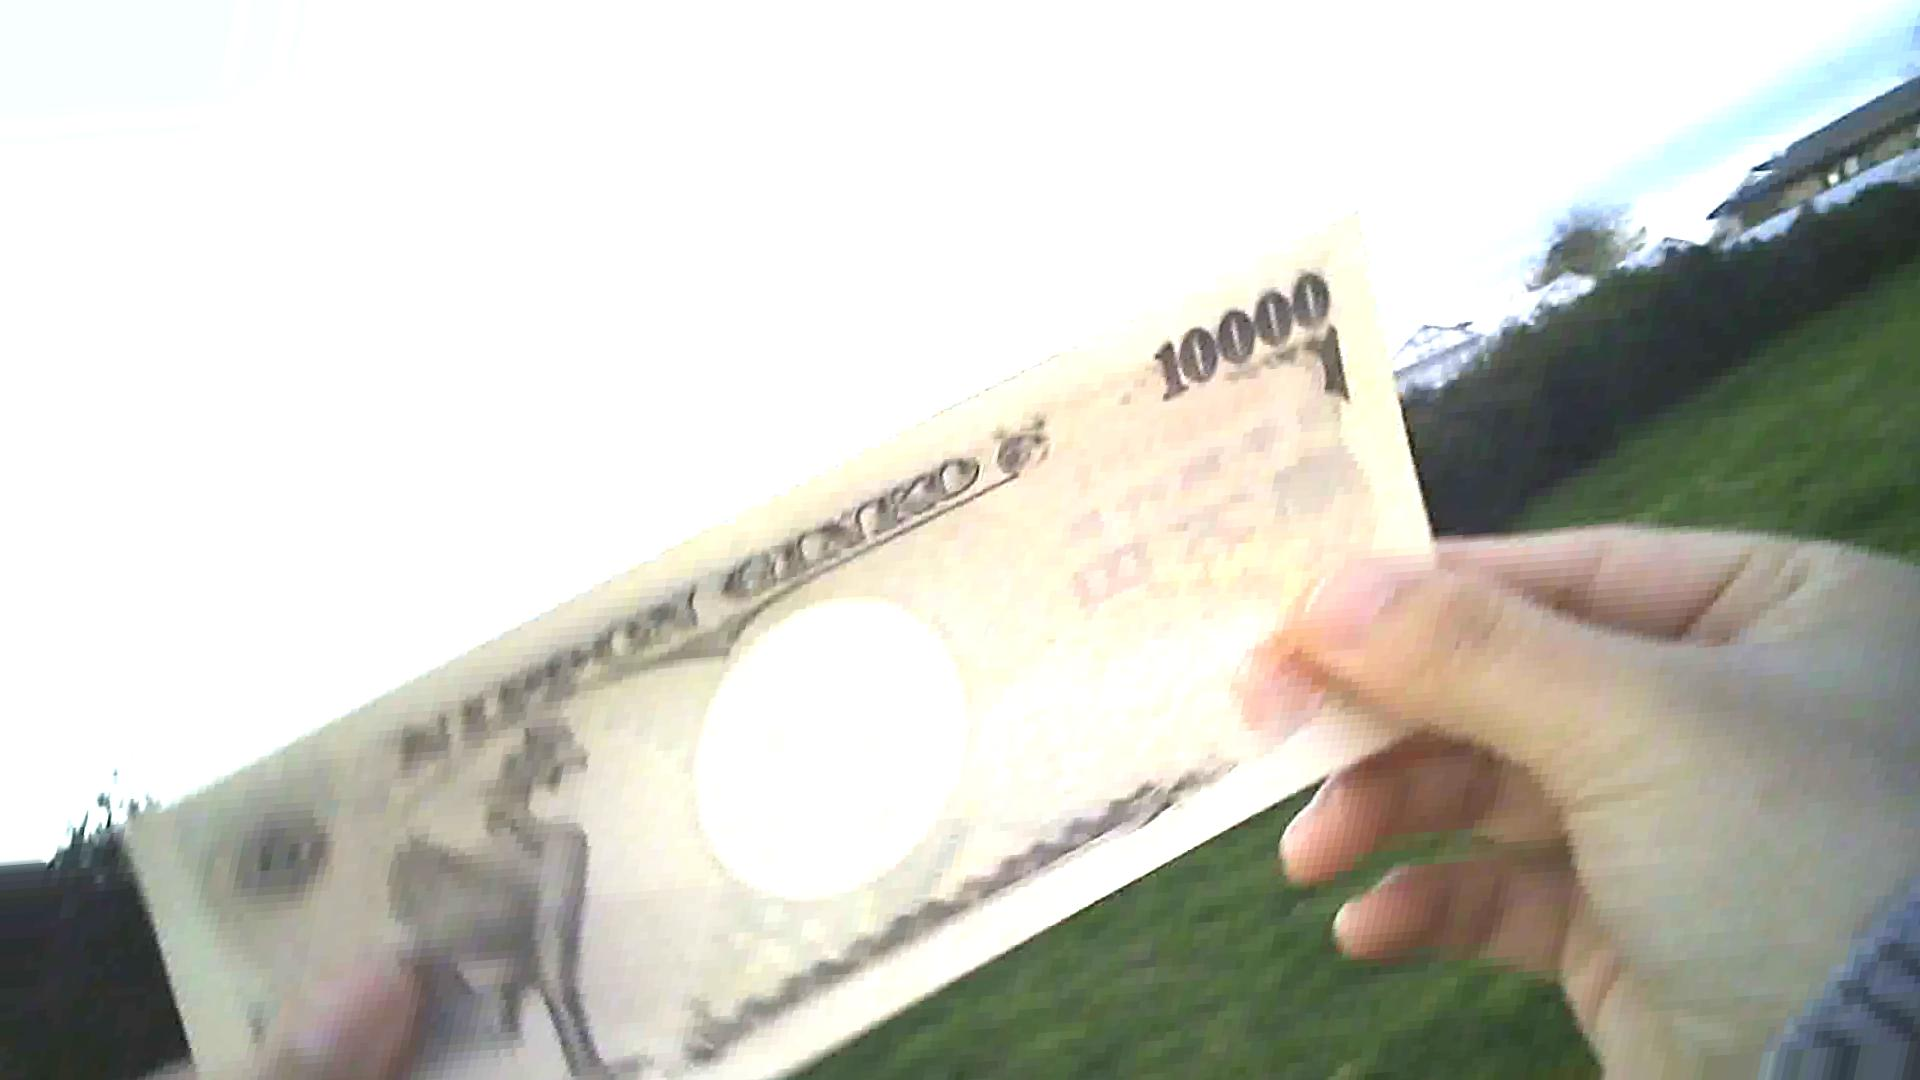10,000 Yen: (123, 218, 1518, 1050)
